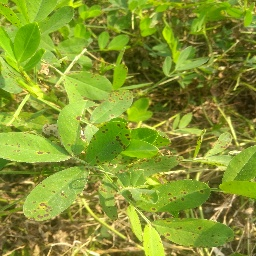GroundNut_Leaf: (22, 168, 87, 221), (144, 219, 234, 249), (137, 180, 212, 211), (86, 121, 131, 165), (1, 132, 68, 161), (220, 144, 255, 197), (164, 45, 210, 77), (91, 90, 136, 119), (13, 21, 41, 62), (43, 4, 76, 33), (60, 37, 88, 55), (112, 60, 127, 89), (110, 33, 131, 49)
